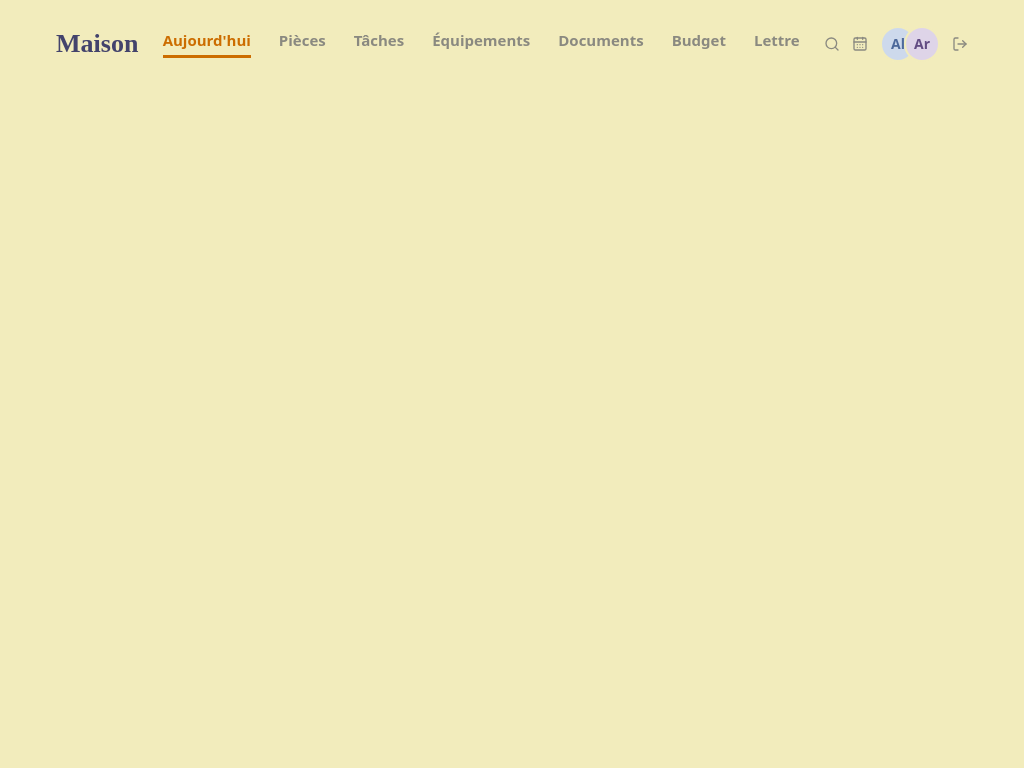
Test case: une déconnexion qui échoue est signalée — la session locale reste intacte
Click the button named "Se déconnecter" at (960, 44), box [952, 36, 968, 52]
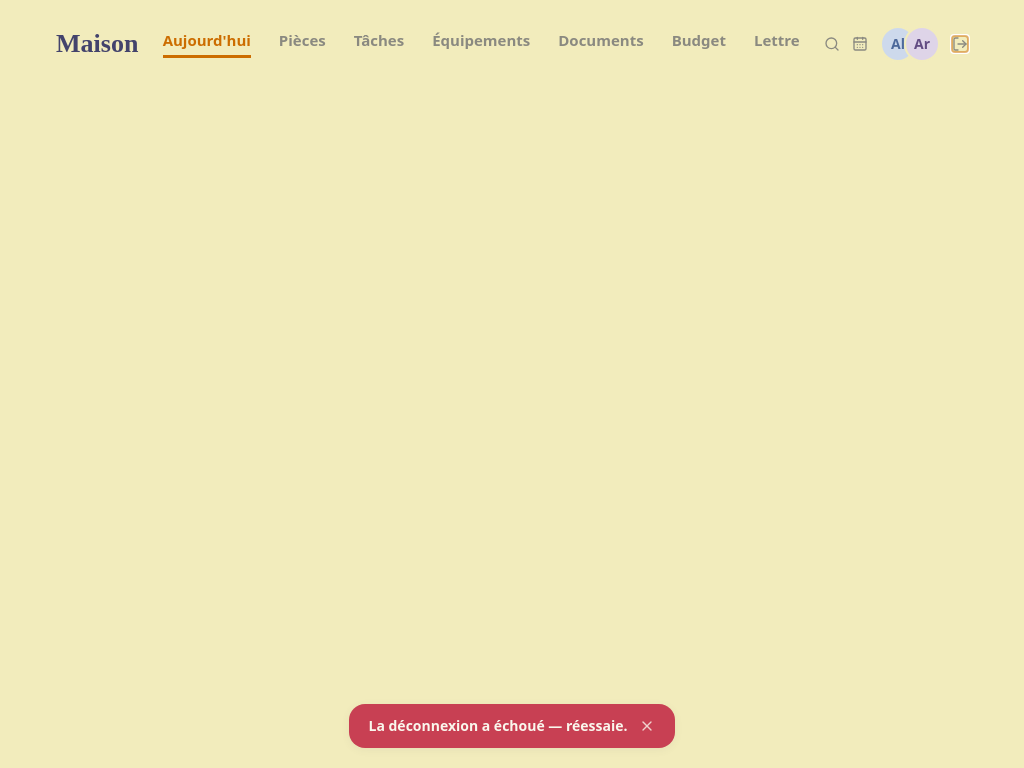
Expected: the text "La déconnexion a échoué — réessaie." is shown, [368, 716, 628, 736]
